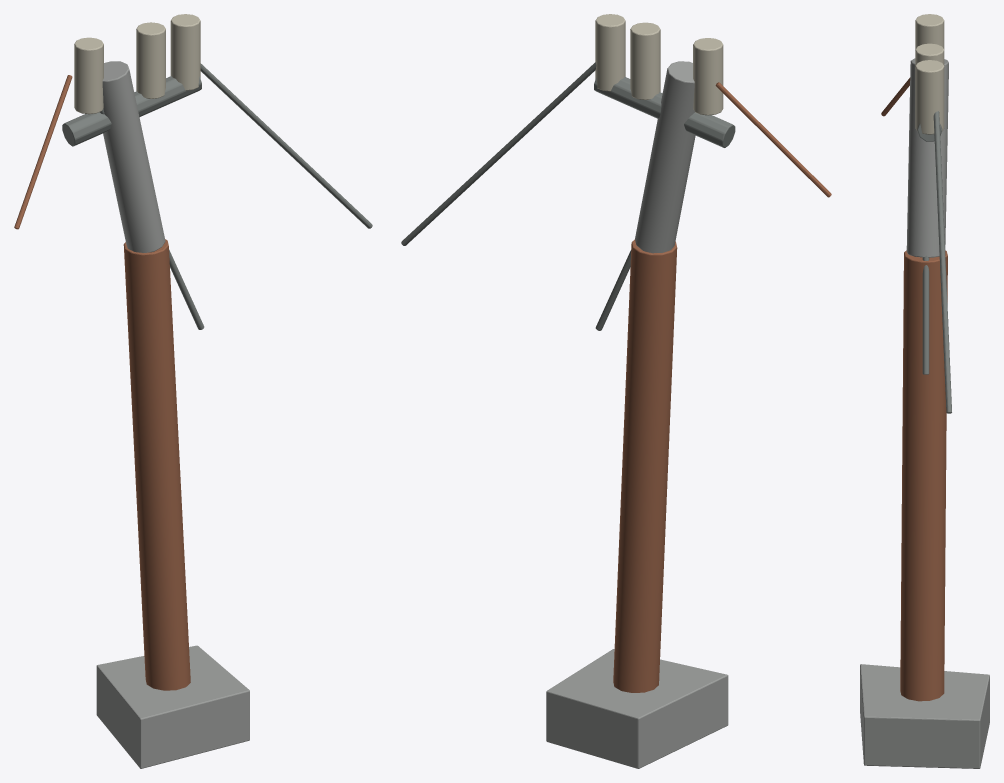
Rendered from Apoc_Prop_Broken_Utility_Pole.fbx.
The picture shows the model from 3 angles, left to right: view 1: azimuth 30°, elevation 25°; view 2: azimuth 150°, elevation 25°; view 3: azimuth 270°, elevation 25°; orthographic projection. The views are drawn at different scales.
Visible parts, largest first — view 1: Apoc_Prop_Broken_Utility_Pole; view 2: Apoc_Prop_Broken_Utility_Pole; view 3: Apoc_Prop_Broken_Utility_Pole.
Boxes of the visible parts, x1=… form: Apoc_Prop_Broken_Utility_Pole: x1=14, y1=14, x2=372, y2=768; Apoc_Prop_Broken_Utility_Pole: x1=401, y1=14, x2=831, y2=768; Apoc_Prop_Broken_Utility_Pole: x1=860, y1=14, x2=989, y2=768.
Bounding box in the file's own units: 2.27 × 3.9 × 0.6694.
